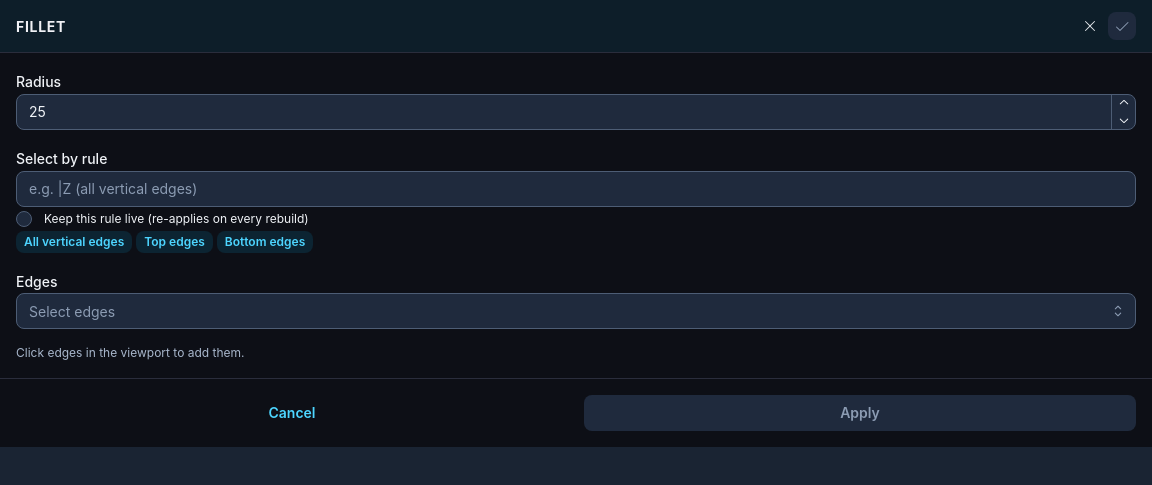
Test: OperationPanel — selector-rule input (ROADMAP §9.1 Phase 3) › shows a no-match state when the rule matches nothing
The image size is (1152, 485).
Step 1. Type "%torus" into the field with placeholder "e.g. |Z (all vertical edges)" → point(576, 189), box [16, 171, 1136, 207]
Then press Enter
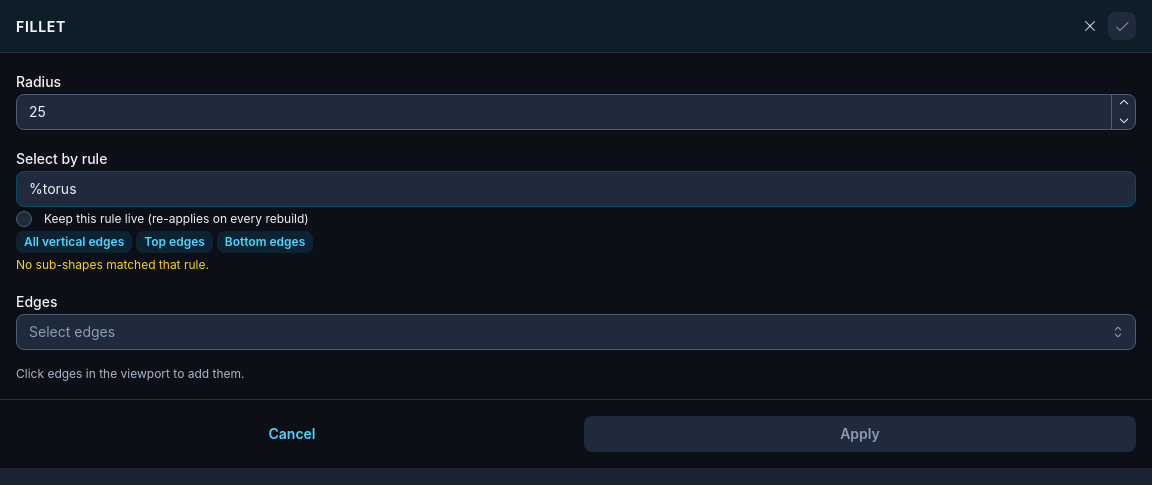
Check: the text "No sub-shapes matched that rule." is shown, box [16, 257, 209, 272]
